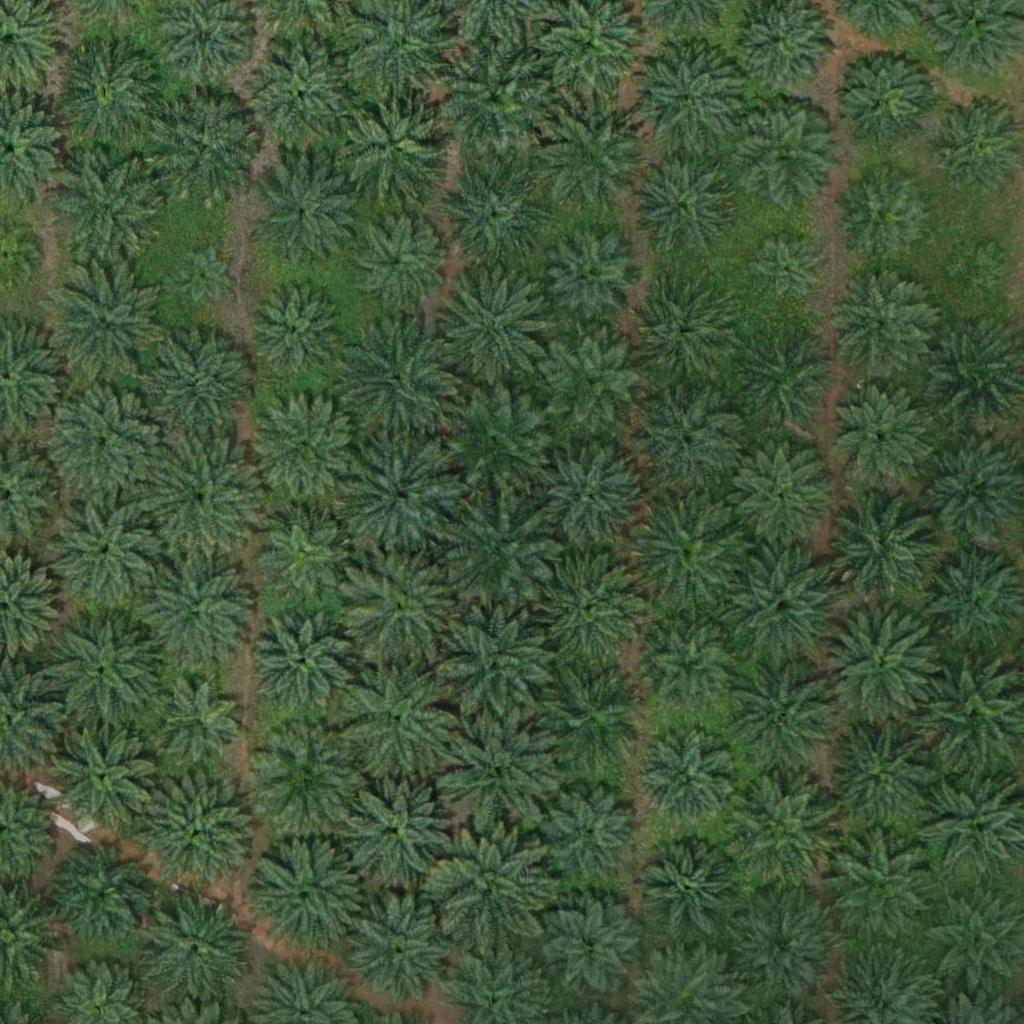Kelapa_Sawit: (436, 380, 549, 494), (342, 316, 455, 430), (248, 160, 361, 274), (443, 490, 556, 604), (728, 656, 841, 770), (826, 832, 939, 946), (634, 45, 747, 158), (337, 89, 450, 202), (342, 438, 455, 551), (246, 41, 359, 154), (45, 262, 158, 375), (49, 385, 162, 498), (44, 497, 157, 610), (47, 611, 160, 724), (48, 716, 161, 829), (142, 776, 255, 889), (252, 835, 365, 948), (343, 551, 456, 664), (438, 610, 551, 723), (440, 716, 553, 829), (434, 831, 547, 944), (632, 489, 745, 602), (729, 549, 842, 662), (823, 610, 936, 723), (825, 719, 938, 832), (139, 892, 252, 1005), (531, 441, 643, 555), (148, 95, 260, 209), (51, 38, 163, 152), (539, 549, 651, 663), (729, 781, 841, 895), (630, 386, 742, 499), (537, 102, 649, 215), (440, 42, 552, 155), (436, 154, 548, 267), (438, 266, 550, 379), (249, 393, 361, 506), (143, 327, 255, 440), (145, 440, 257, 553), (54, 151, 166, 264), (139, 558, 251, 671), (251, 721, 363, 834), (345, 663, 457, 776), (343, 769, 455, 882), (536, 664, 648, 777), (725, 890, 837, 1003), (826, 490, 938, 603), (347, 893, 459, 1006), (832, 45, 932, 146), (836, 164, 936, 265), (828, 272, 928, 373), (828, 383, 928, 484), (733, 102, 833, 203), (735, 328, 835, 429), (733, 444, 833, 545), (633, 151, 733, 252), (630, 284, 730, 385), (543, 228, 643, 329), (543, 331, 643, 432), (50, 843, 150, 944), (150, 676, 250, 777), (254, 498, 354, 599), (250, 609, 350, 710), (540, 781, 640, 882), (542, 900, 642, 1001), (642, 842, 742, 943), (347, 210, 447, 310), (245, 279, 345, 379), (637, 729, 737, 829), (643, 626, 731, 714), (746, 234, 821, 309), (943, 238, 1005, 301), (172, 243, 234, 306)
